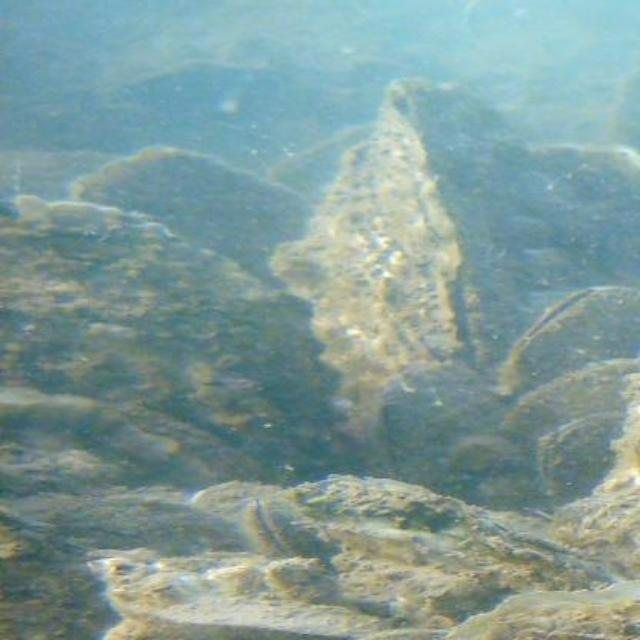Oyster-Closed: (0, 195, 395, 484), (279, 82, 566, 444), (0, 388, 224, 638), (294, 477, 617, 620), (70, 146, 319, 319), (557, 373, 638, 577), (533, 145, 638, 302), (447, 581, 638, 638), (505, 361, 638, 436), (160, 596, 382, 638), (538, 408, 624, 506), (265, 125, 370, 203)
Oyster-Open: (494, 286, 638, 401), (244, 497, 319, 561)
